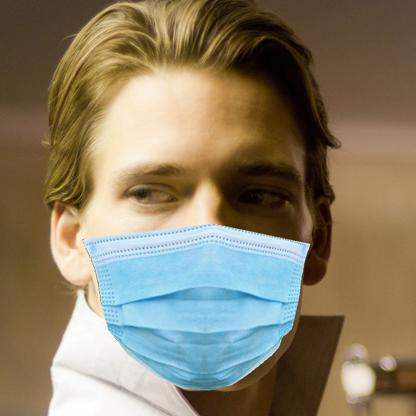mask: (83, 225, 310, 390)
